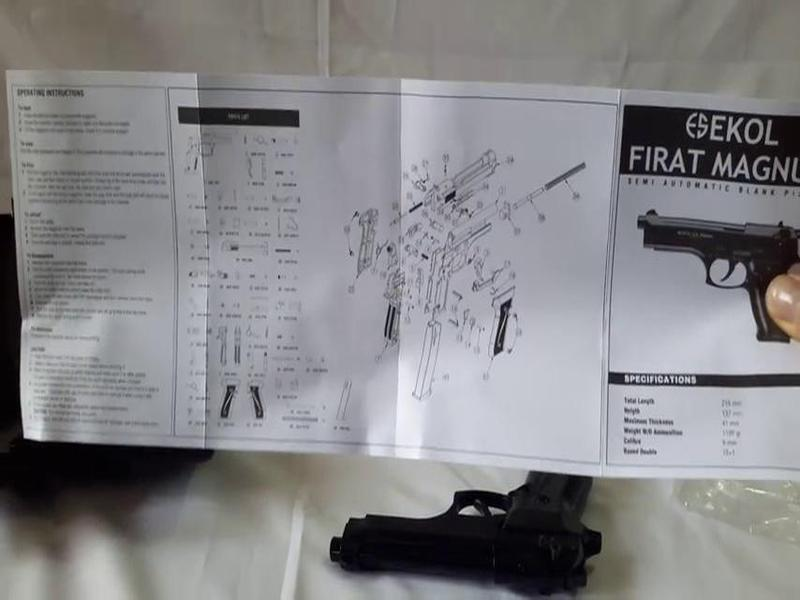Pistola: (313, 447, 613, 600)
